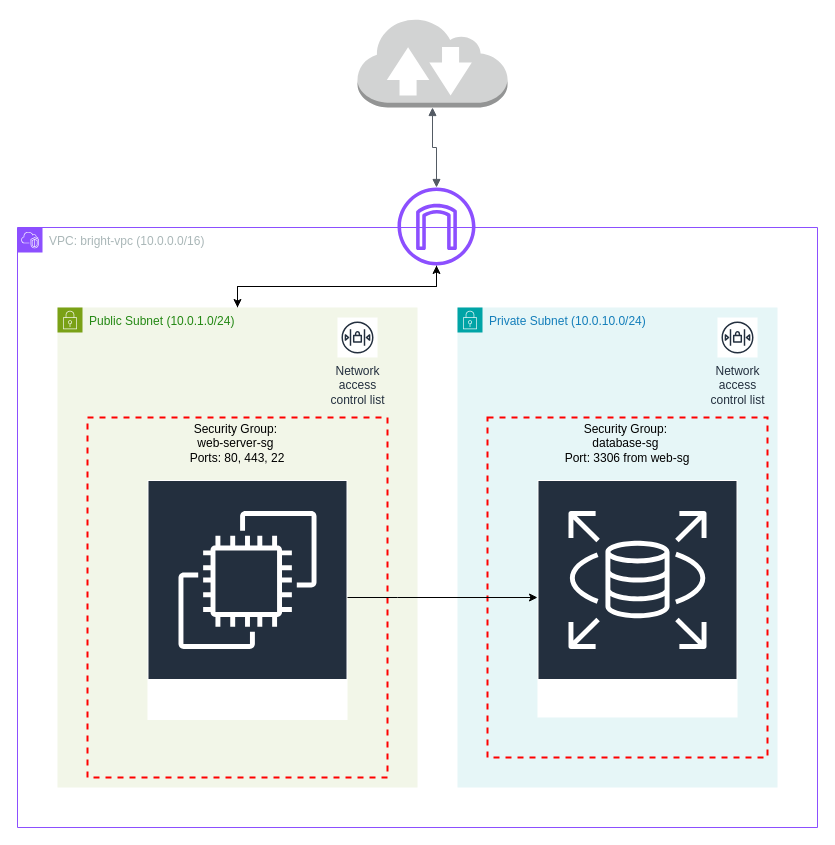
The diagram is 835 pixels wide and 845 high, and some of its shapes have lost their labels. Here are the shapes that lost their labels. From the top down, the centre of each, then its label:
At pixel 247 599: "Amazon EC2".
At pixel 637 598: "Amazon RDS".
